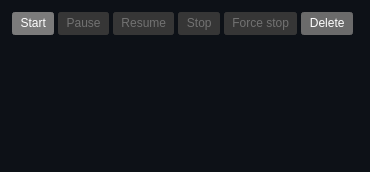
it: the detail action row › sends the action with this VM own revision and reports the operation
Click the button "Start": (33, 23) [12,12,54,35]
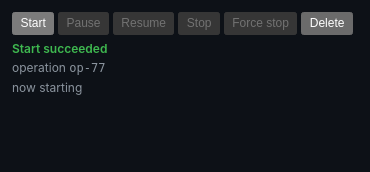
Check: the element with test id "vm-result" shows "op-77", box [69,61,105,75]
